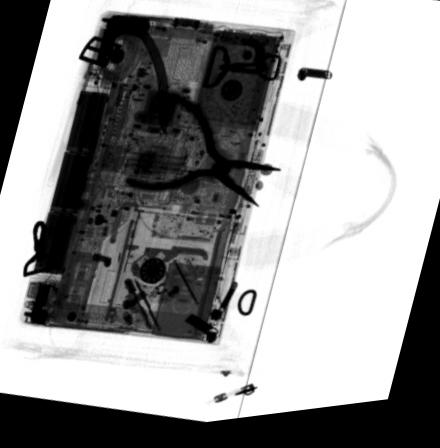Pliers: (125, 97, 283, 215)
